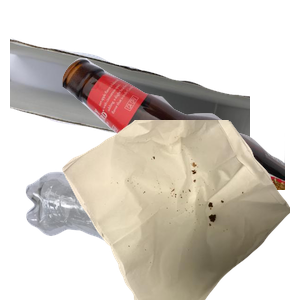cardboard: (10, 35, 250, 188)
glass: (60, 56, 300, 236)
plastic: (23, 169, 243, 300)
trash: (60, 120, 300, 300)
